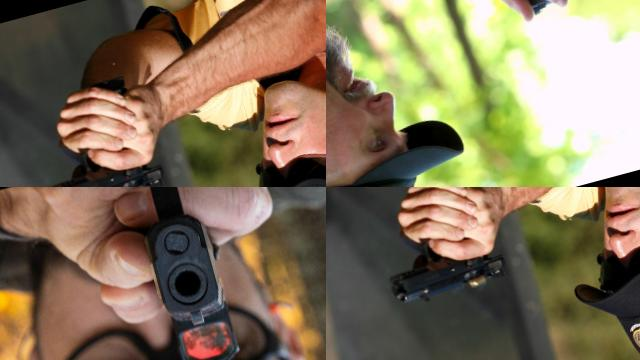handgun: (114, 187, 250, 360), (358, 187, 515, 314), (18, 66, 169, 187), (506, 0, 640, 52)
